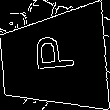P_W: (30, 39, 78, 81)
